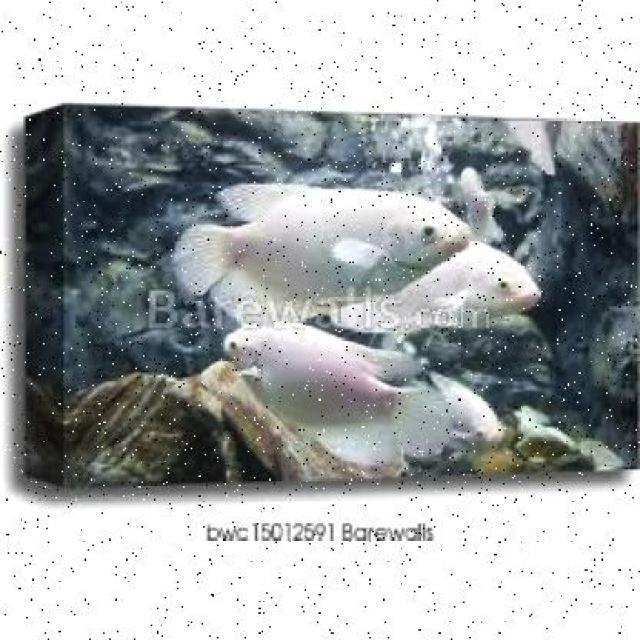gurame: (175, 176, 462, 322), (218, 316, 444, 472)
